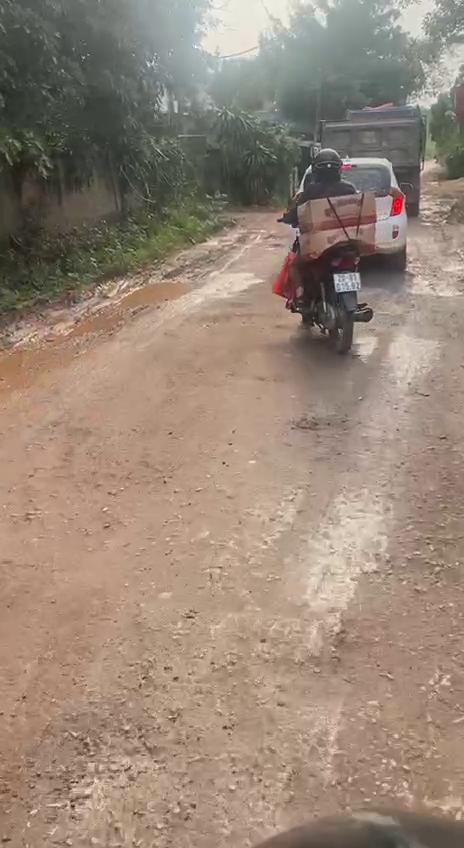pothole: (54, 276, 200, 348)
